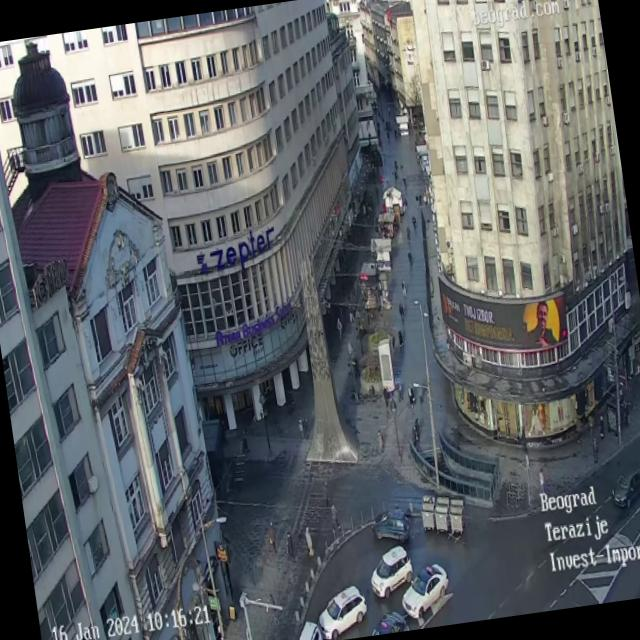car: (396, 562, 454, 620), (313, 583, 371, 640), (366, 544, 416, 600), (370, 506, 412, 546), (608, 468, 640, 510), (370, 607, 409, 635), (293, 618, 323, 640)
